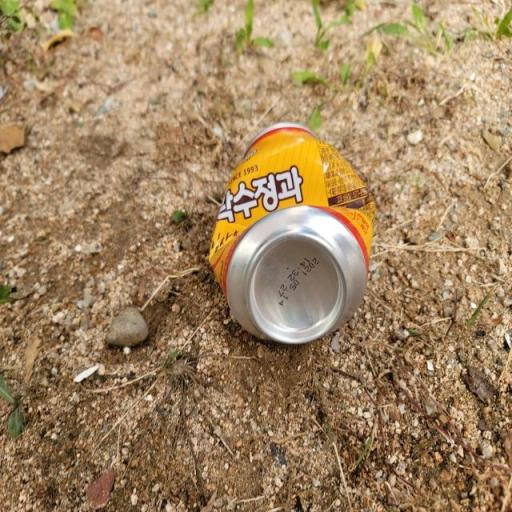metal: (206, 104, 378, 372)
